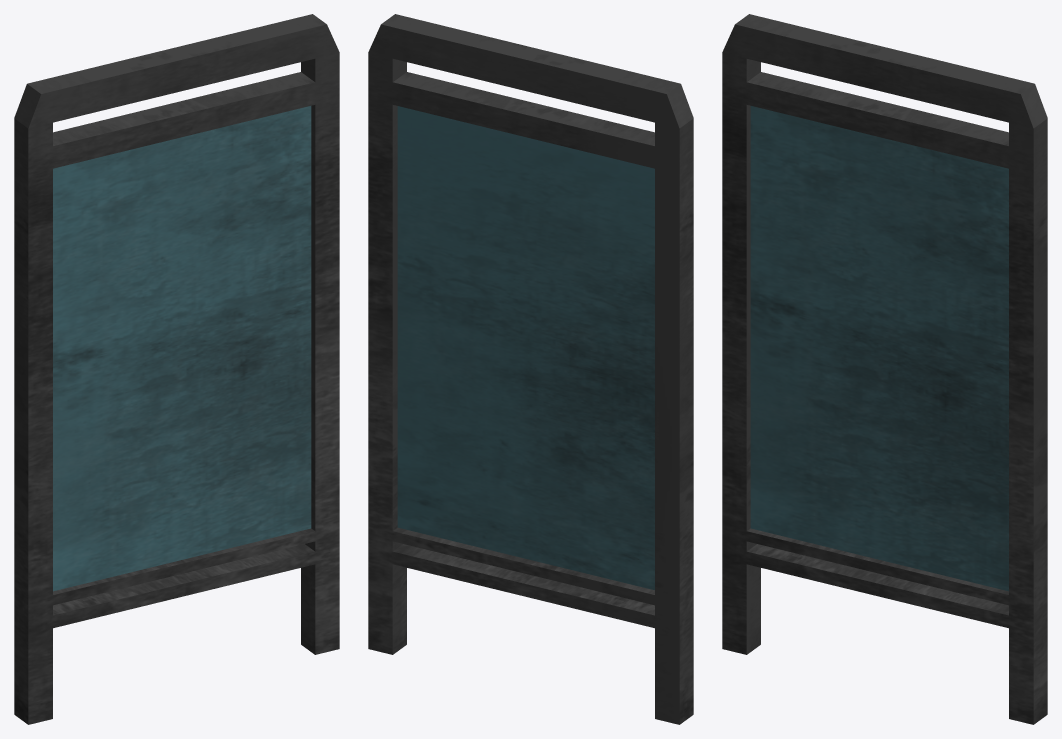
The model's file is Dark__Partition.fbx.
3 renders of one model, left to right at view 1: azimuth 30°, elevation 25°; view 2: azimuth 150°, elevation 25°; view 3: azimuth 330°, elevation 25°, orthographic.
Parts seen in each view (by area): view 1: Partition; view 2: Partition; view 3: Partition.
Boxes of the visible parts, <box> form: Partition: <box>14,14,339,724</box>; Partition: <box>368,14,693,724</box>; Partition: <box>722,14,1047,724</box>.
Size of the model in its own units: 113 by 217 by 8.92.
Materials: 2 (2 with a texture image).
